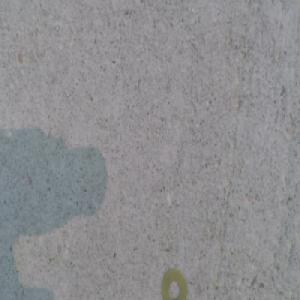Washer: (162, 269, 187, 299)
